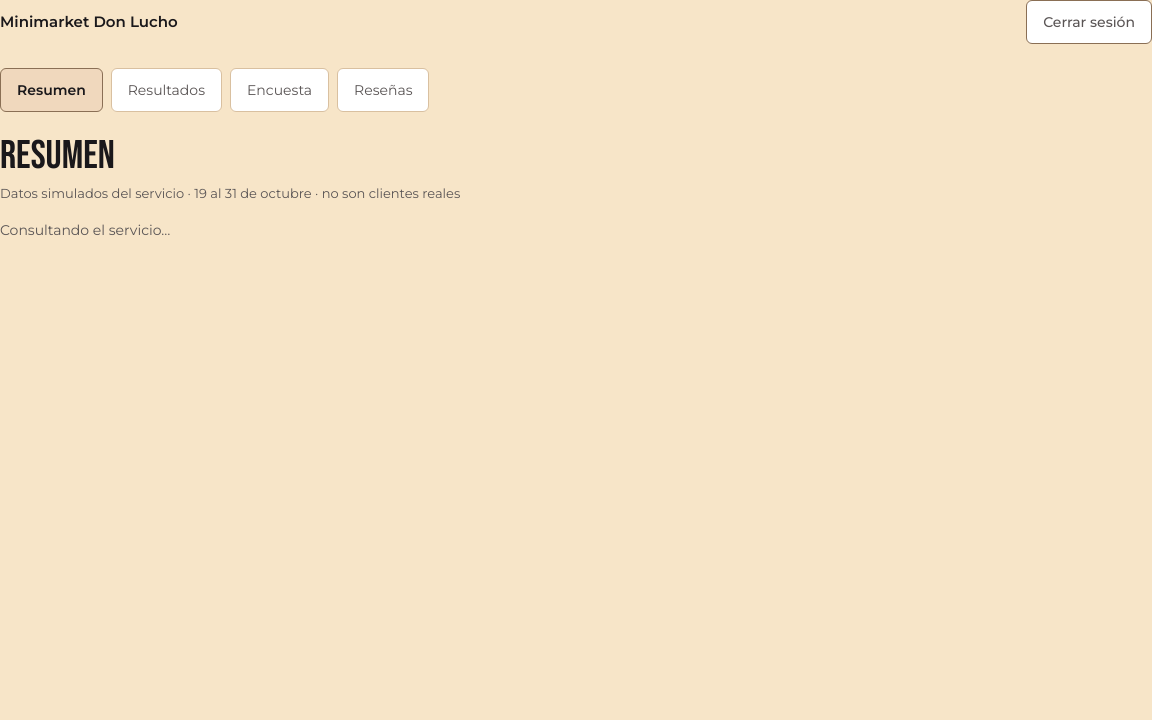
Test: PanelPage: dependiente de la sesión › 9. pestaña Reseñas usa el empresa_id de la sesión (20 · 17 · 5)
The width and height of the screenshot is (1152, 720).
Click the tab "Reseñas" at (383, 90), box [337,68,430,112]
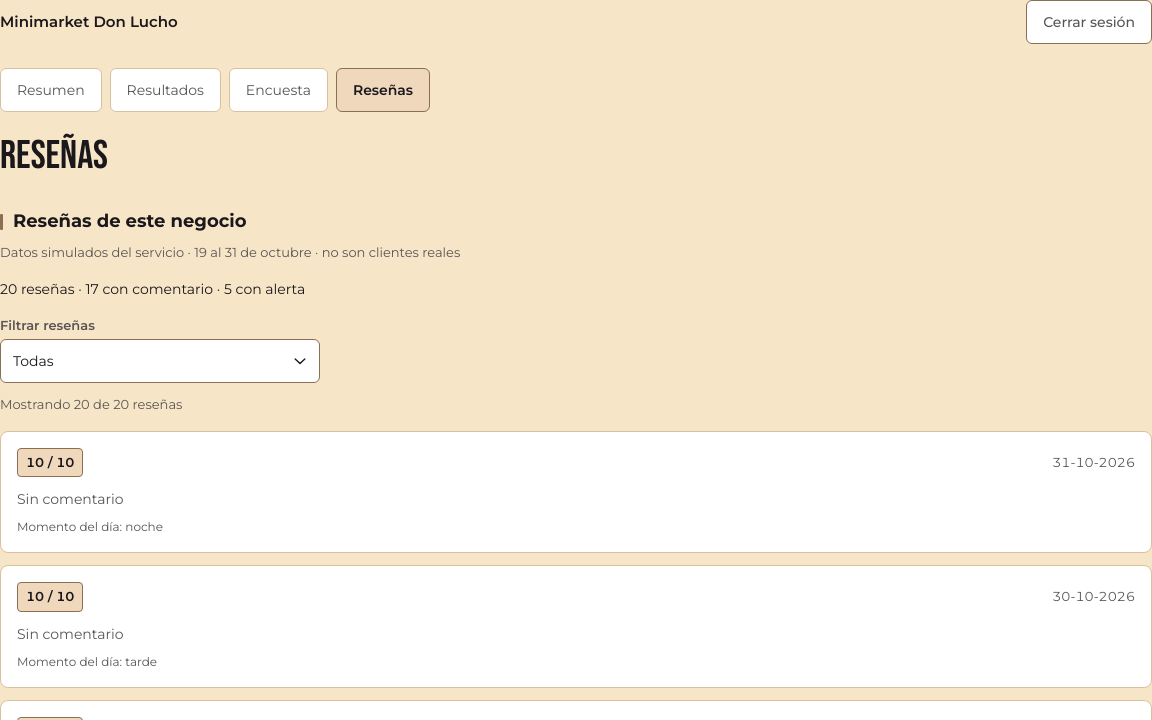
expect the heading "Reseñas de este negocio" is shown: met, box [0,210,246,232]
expect the text "20 reseñas · 17 con comentario · 5 con alerta" is shown: met, box [0,280,305,298]
expect the text "Mostrando 20 de 20 reseñas" is shown: met, box [0,396,182,412]
